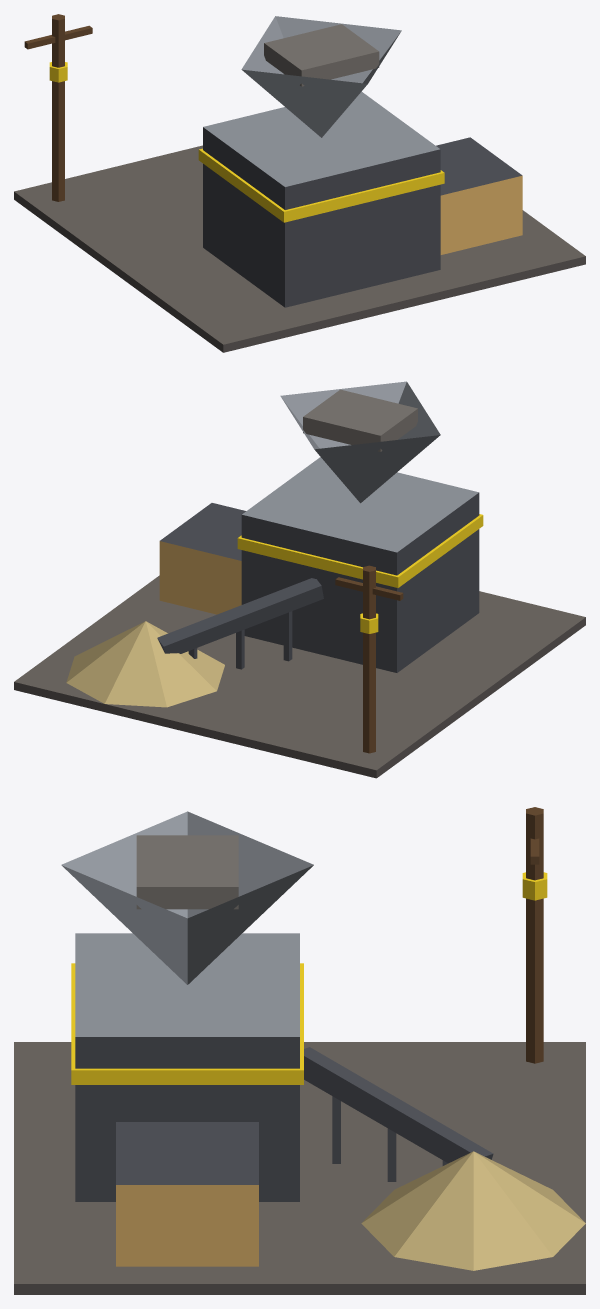
The model's file is rock_crusher.glb.
3 renders of one model, top to bottom at view 1: azimuth 30°, elevation 25°; view 2: azimuth 150°, elevation 25°; view 3: azimuth 270°, elevation 25°, orthographic. The views are drawn at different scales.
Visible parts, largest first — view 1: rock_crusher; view 2: rock_crusher; view 3: rock_crusher.
Boxes of the visible parts, bbox=[...] form: rock_crusher: bbox=[14, 14, 585, 352]; rock_crusher: bbox=[14, 381, 585, 778]; rock_crusher: bbox=[14, 807, 585, 1294].
Size of the model in its own units: 2.85 by 1.62 by 2.8.
